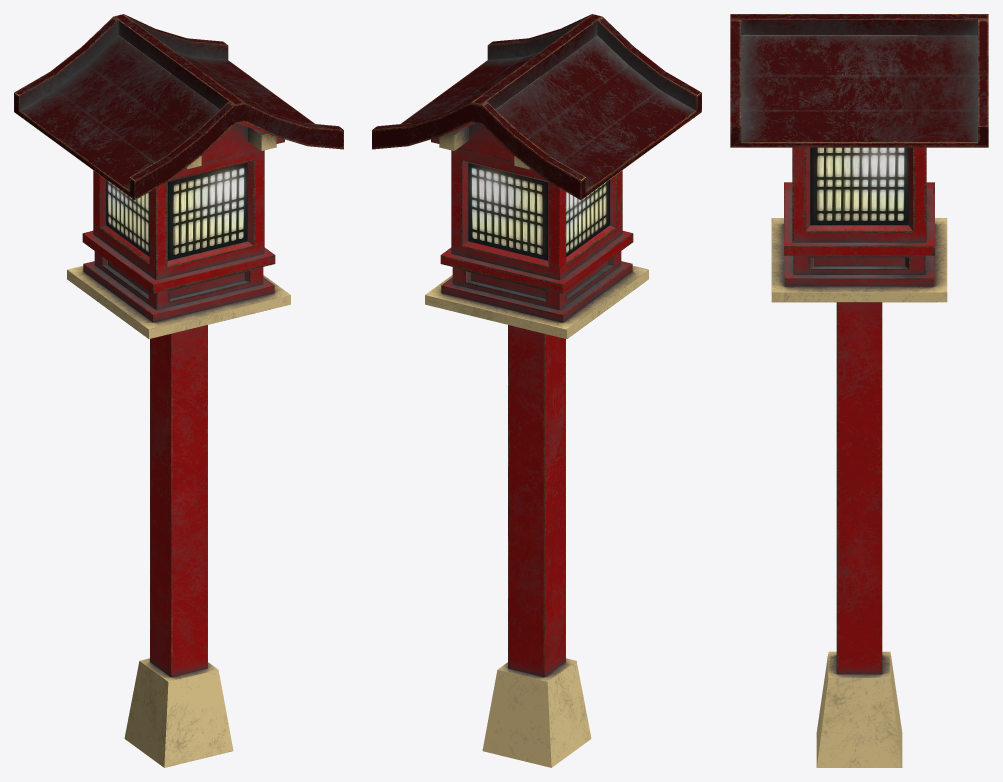
The model's file is lantern.glb.
The picture shows the model from 3 angles, left to right: view 1: azimuth 30°, elevation 25°; view 2: azimuth 150°, elevation 25°; view 3: azimuth 270°, elevation 25°; orthographic projection. The views are drawn at different scales.
Parts seen in each view (by area): view 1: Cube.001; view 2: Cube.001; view 3: Cube.001.
Part boxes in pixels (<box>): Cube.001: <box>14,14,343,767</box>; Cube.001: <box>372,14,701,767</box>; Cube.001: <box>730,14,988,767</box>.
Bounding box in the file's own units: 0.5225 × 1.64 × 0.5225.
2 materials, 2 textured.
